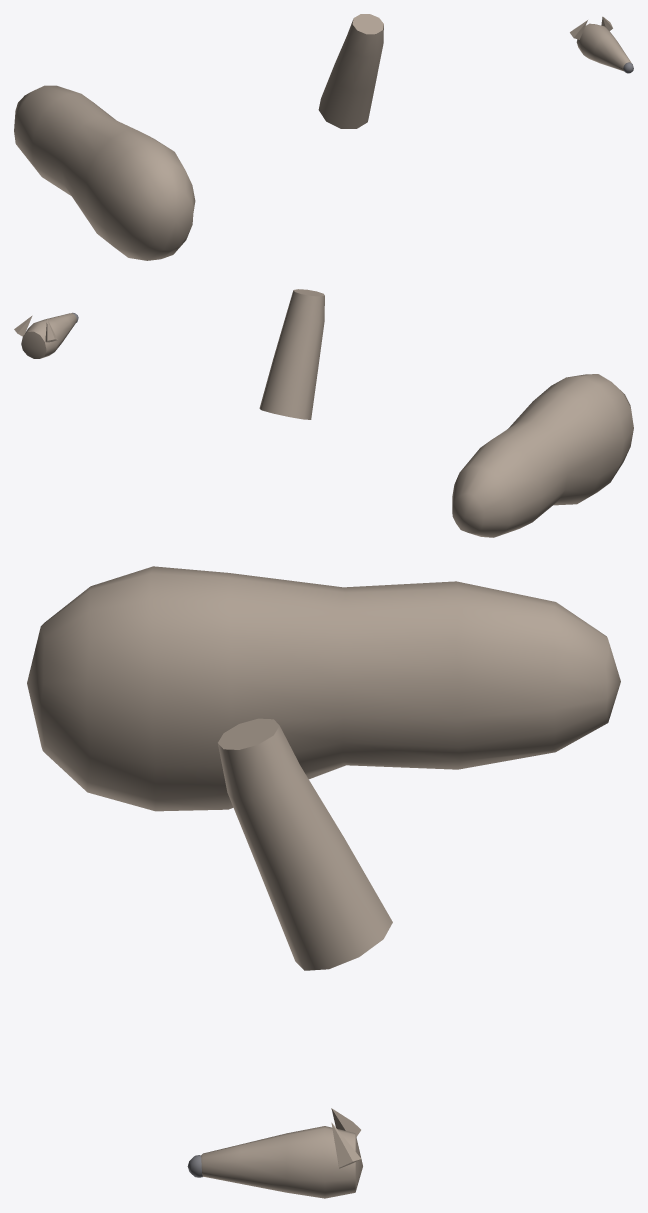
File: glassrunner.glb
The picture shows the model from 3 angles, top to bottom: view 1: azimuth 30°, elevation 25°; view 2: azimuth 150°, elevation 25°; view 3: azimuth 270°, elevation 25°; orthographic projection. The views are drawn at different scales.
Parts seen in each view (by area): view 1: body, neck, head; view 2: body, neck, head; view 3: body, neck, head.
Part boxes in pixels (x1=…): body: x1=14, y1=85, x2=195, y2=260; neck: x1=318, y1=14, x2=383, y2=128; head: x1=570, y1=16, x2=633, y2=73; body: x1=452, y1=374, x2=633, y2=537; neck: x1=259, y1=289, x2=324, y2=419; head: x1=14, y1=312, x2=78, y2=358; body: x1=27, y1=566, x2=620, y2=811; neck: x1=218, y1=718, x2=392, y2=970; head: x1=187, y1=1108, x2=362, y2=1198.
Size of the model in its own units: 3.38 by 0.9311 by 1.56.
